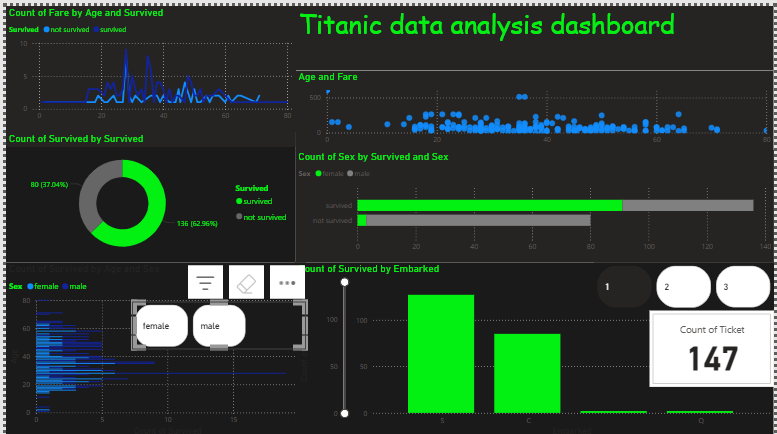

What the dashboard file says about the page in this screenshot:
{"tool":"powerbi","page":{"name":"Page 1","canvas":[1280,720],"ordinal":0},"visuals":[{"type":"donutChart","fields":{"Y":["CountNonNull(Titanic dataset.Survived)"],"Category":["Titanic dataset.Survived"]},"box":[0,210,482.5,217.5],"z":0},{"type":"barChart","fields":{"Category":["Titanic dataset.Survived"],"Y":["CountNonNull(Titanic dataset.Sex)"],"Series":["Titanic dataset.Sex"]},"box":[482.5,240,797.5,187.5],"z":1000},{"type":"barChart","fields":{"Category":["Titanic dataset.Age"],"Y":["CountNonNull(Titanic dataset.Survived)"],"Series":["Titanic dataset.Sex"]},"box":[0,427.3,500,292.7],"z":2000},{"type":"clusteredColumnChart","fields":{"Category":["Titanic dataset.Embarked"],"Y":["CountNonNull(Titanic dataset.Survived)"]},"box":[483.3,426.7,796.7,293.3],"z":3000},{"type":"scatterChart","fields":{"X":["Titanic dataset.Age"],"Y":["Titanic dataset.Fare"]},"box":[483.3,106.7,796.7,133.3],"z":4000},{"type":"advancedSlicerVisual","fields":{"Values":["Titanic dataset.Sex"]},"box":[210,492.5,290,80],"z":5000},{"type":"lineChart","fields":{"Category":["Titanic dataset.Age"],"Y":["Count(Titanic dataset.Fare)"],"Series":["Titanic dataset.Survived"]},"box":[0,0,483.3,210],"z":6000},{"type":"advancedSlicerVisual","fields":{"Values":["Titanic dataset.Pclass"]},"box":[980,426.7,300,80],"z":7000},{"type":"cardVisual","fields":{"Data":["Count(Titanic dataset.Ticket)"]},"box":[1073.3,510,206.7,126.7],"z":8000},{"type":"textbox","title":"Titanic data analysis dashboard","box":[483.3,0,796.7,106.7],"z":9000}]}

Visuals, with their boxes in screenshot pixels (x1, y1, x2, y2), scaled from the page's 1280x720 canvas onto the 777x434 screenshot:
donutChart - CountNonNull(Titanic dataset.Survived) x Titanic dataset.Survived: 0 127 293 258
barChart - Titanic dataset.Survived x CountNonNull(Titanic dataset.Sex): 293 145 776 258
barChart - Titanic dataset.Age x CountNonNull(Titanic dataset.Survived): 0 258 304 433
clusteredColumnChart - Titanic dataset.Embarked x CountNonNull(Titanic dataset.Survived): 293 257 776 433
scatterChart - Titanic dataset.Age x Titanic dataset.Fare: 293 64 776 145
advancedSlicerVisual - Titanic dataset.Sex: 127 297 304 345
lineChart - Titanic dataset.Age x Count(Titanic dataset.Fare): 0 0 293 127
advancedSlicerVisual - Titanic dataset.Pclass: 595 257 776 305
cardVisual - Count(Titanic dataset.Ticket): 652 307 776 384
"Titanic data analysis dashboard" textbox: 293 0 776 64
